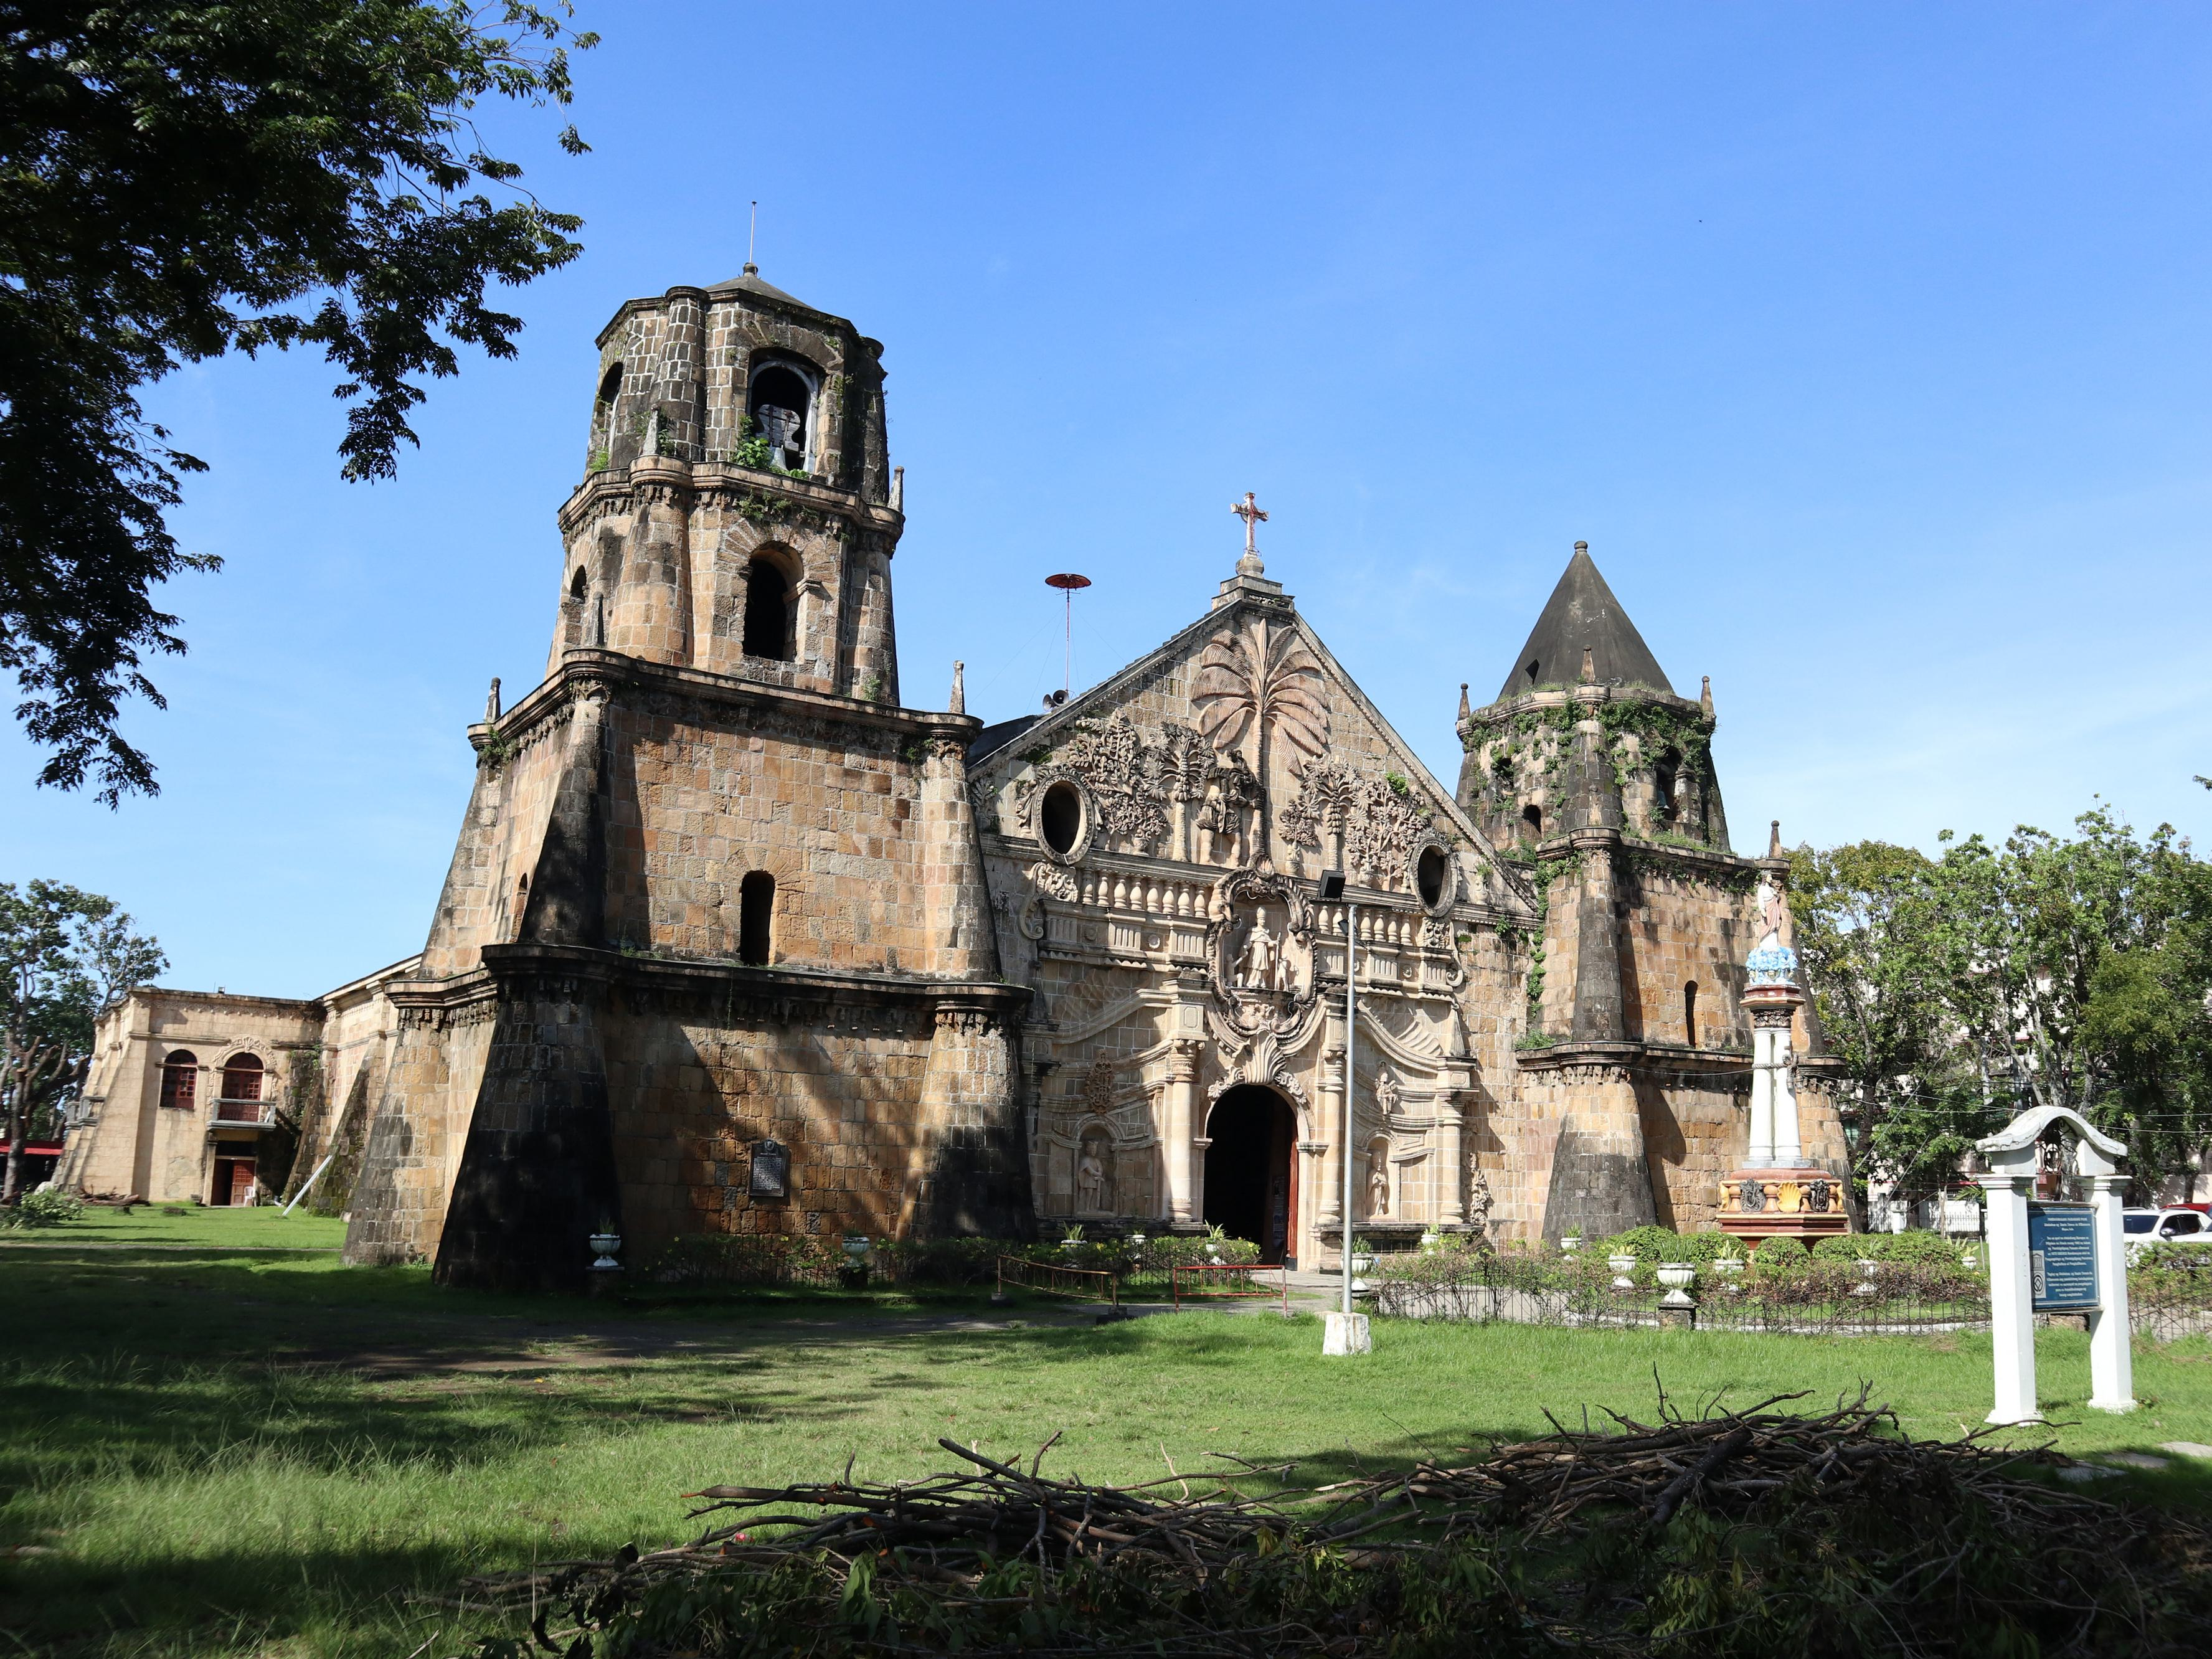Environmental Damage: (1472, 685, 1726, 809), (719, 416, 822, 530), (1521, 850, 1571, 1051), (582, 443, 624, 490)
Miagao Church: (314, 157, 1902, 1317)
